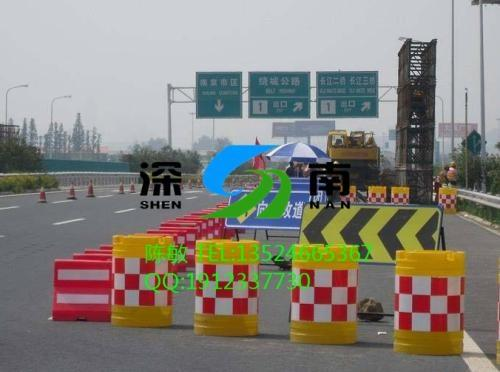cone_barrel: (390, 249, 462, 354), (289, 243, 358, 343), (193, 240, 258, 335), (110, 229, 171, 327), (436, 186, 457, 213), (366, 185, 386, 202), (390, 185, 409, 202)
